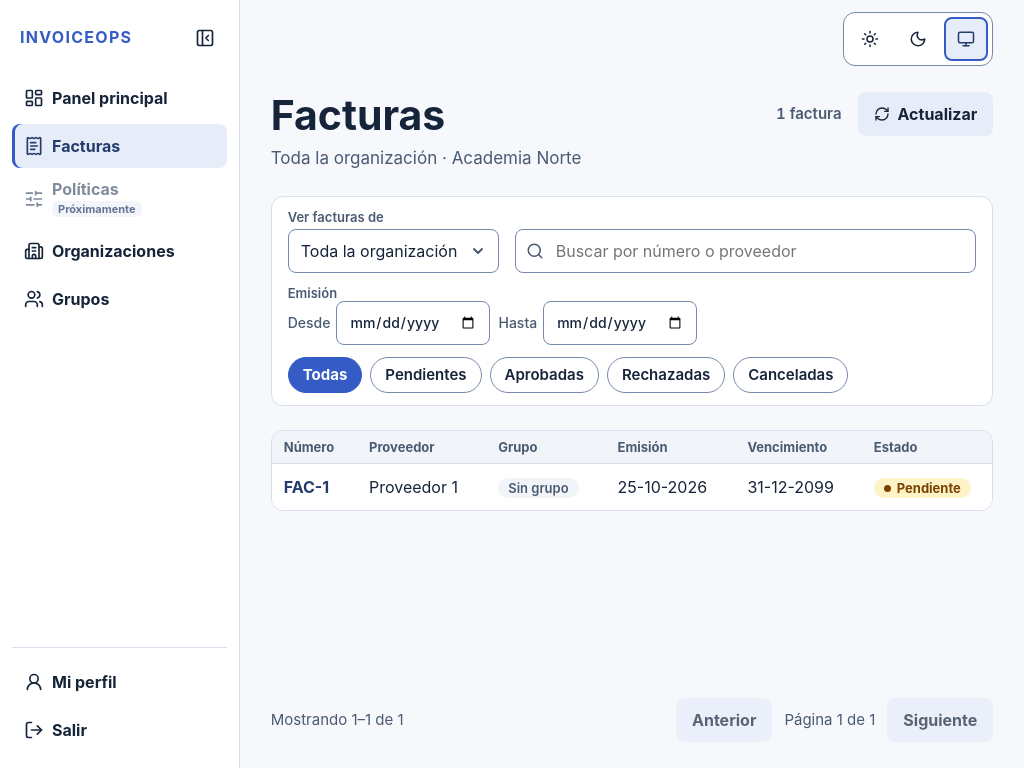
Test: APP12 S3 invoice presentation HTTP boundary › explains detail HTTP 403 and can reload
This screenshot has width=1024, height=768.
Check: the heading "Facturas" is shown, box [271,90,445,140]
Step 1. Click the link "FAC-1" → x=306, y=487, box [284,477,329,497]
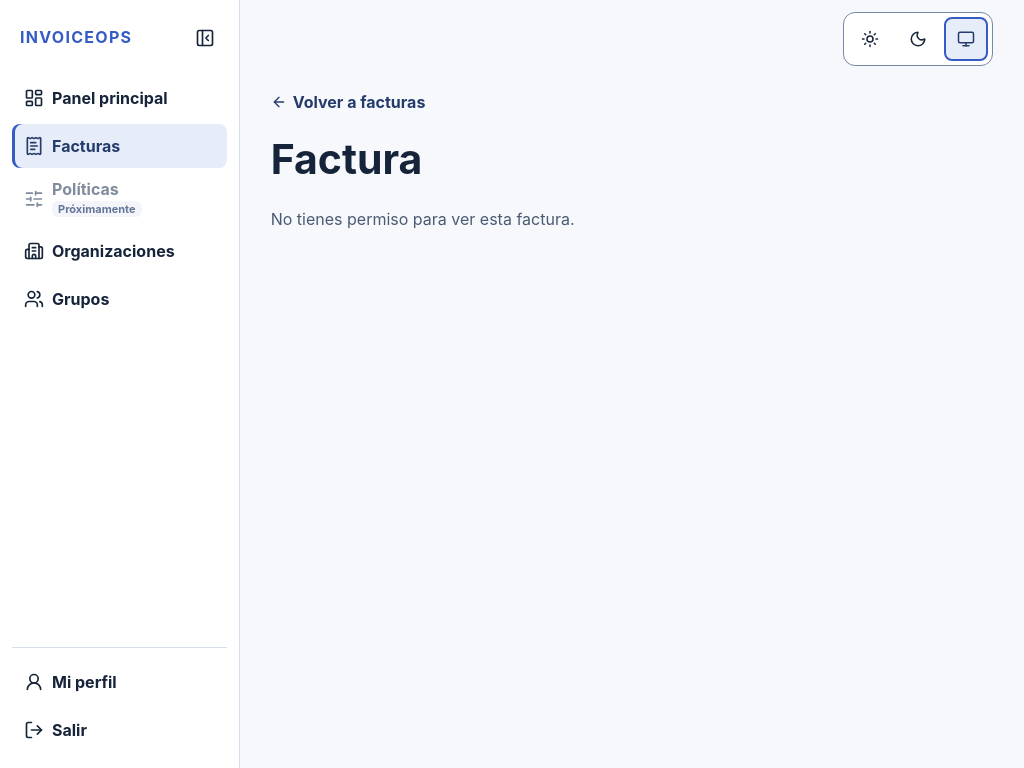
Check: the text "No tienes permiso para ver esta factura." is shown, box [271,209,574,229]
Check: the text "Proveedor 1" is gone
Check: the link "Volver a facturas" is shown, box [271,92,425,112]
